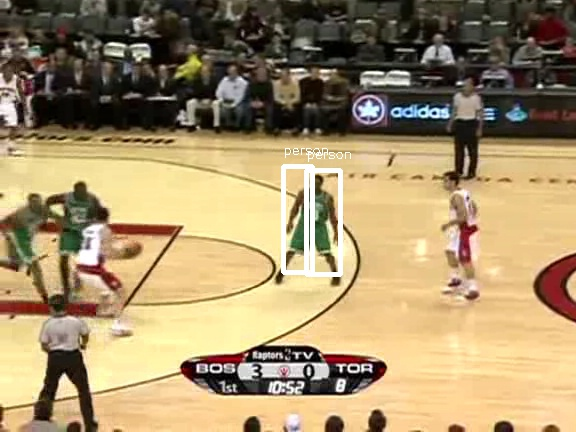person: (298, 183, 332, 264), (297, 183, 331, 264), (299, 183, 333, 264), (298, 182, 332, 263), (298, 184, 332, 265)
target_negative: (353, 285, 469, 423), (211, 128, 475, 168), (363, 283, 430, 399), (101, 419, 418, 430), (356, 426, 447, 430)
